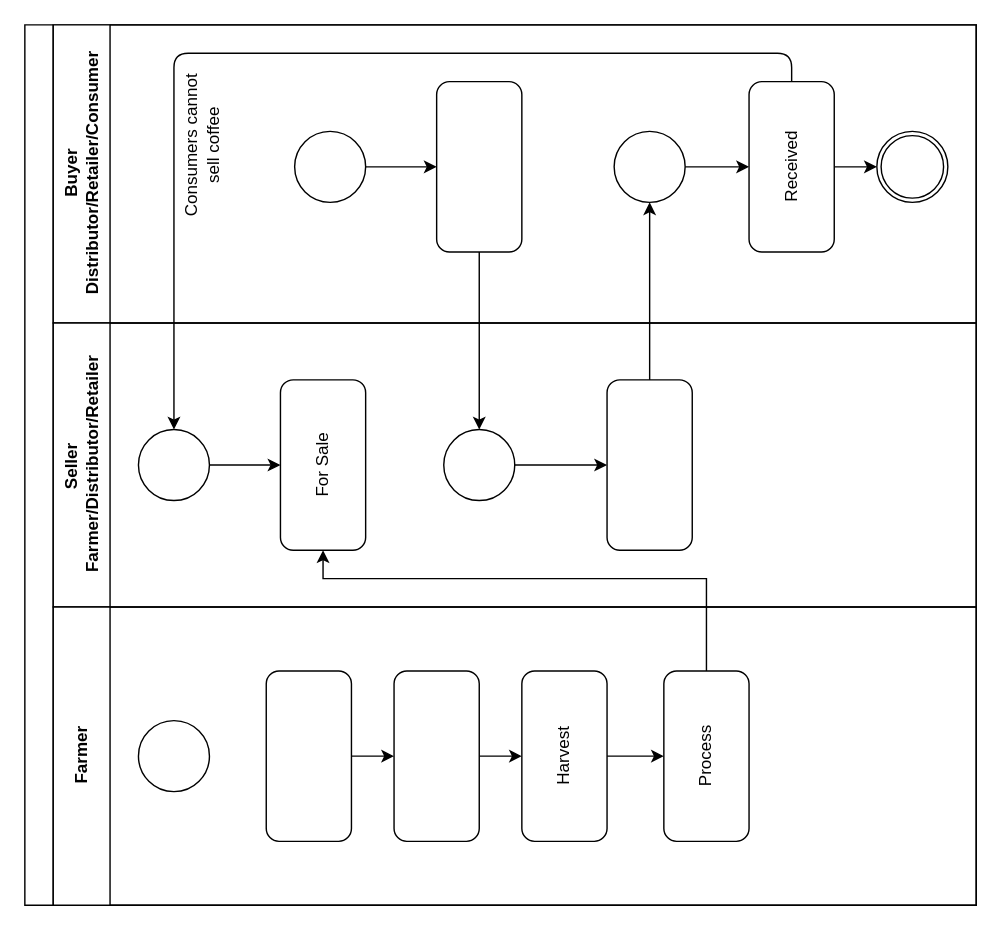
The diagram is 1001 pixels wide and 930 high, and some of its shapes have lost their labels. The centre of each missing label's shape, as x and y in pixels:
Buy: point (478, 166)
Register Farm: point (308, 755)
Shipped: point (649, 464)
To Plant: point (436, 755)
